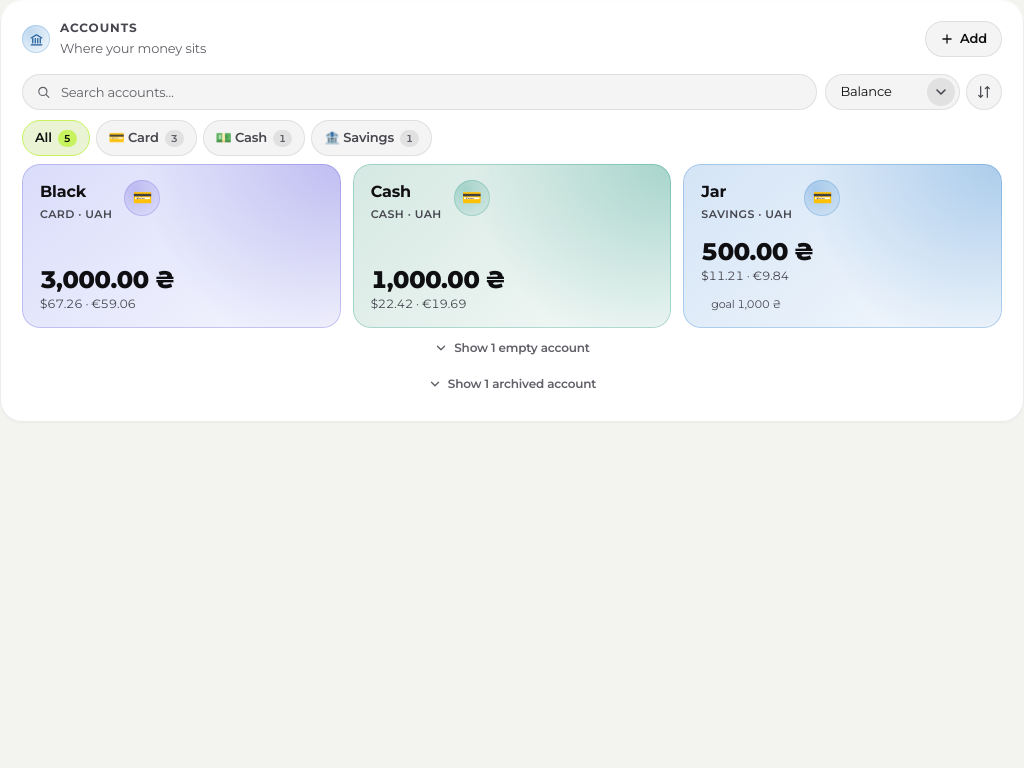
Test: AccountsCard › keeps archived accounts behind their own button, marked
Expected: the button "Show 1 empty account" is shown, [22,332,1002,364]
Click the button "Show 1 archived account": (512, 384) [22,368,1002,400]
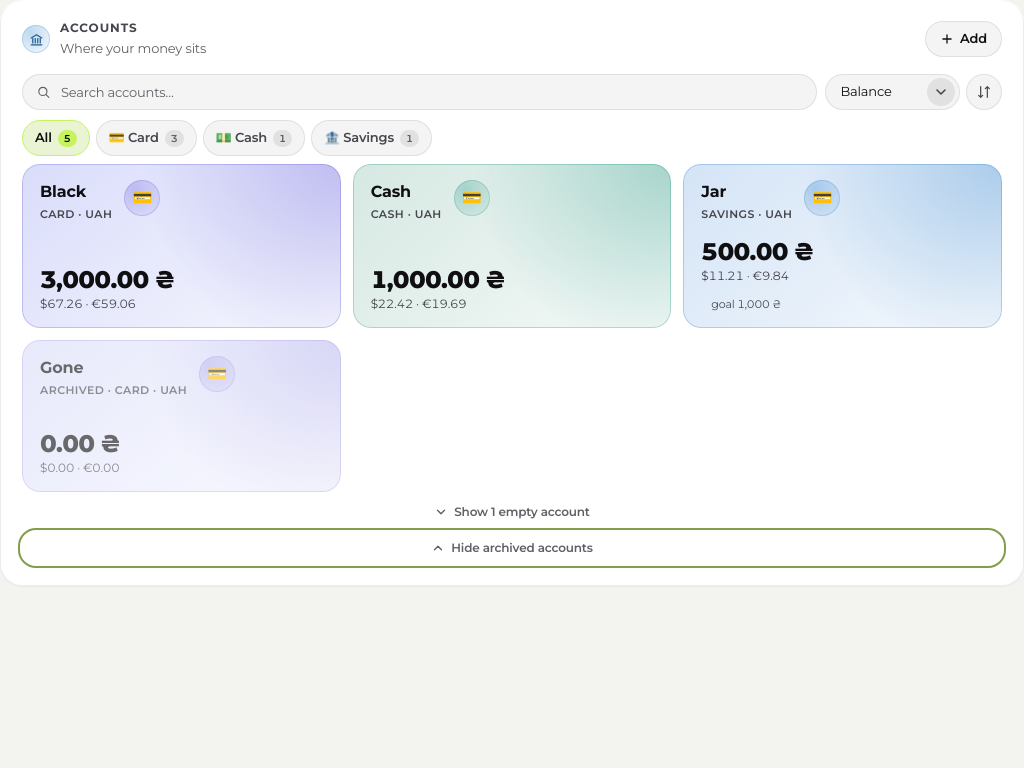
Now the text "Gone" is shown, box [40,358,83,377]
Now the text "Archived · Card · UAH" is shown, box [40,382,187,399]
